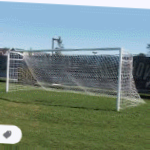goals: (5, 45, 149, 114)
